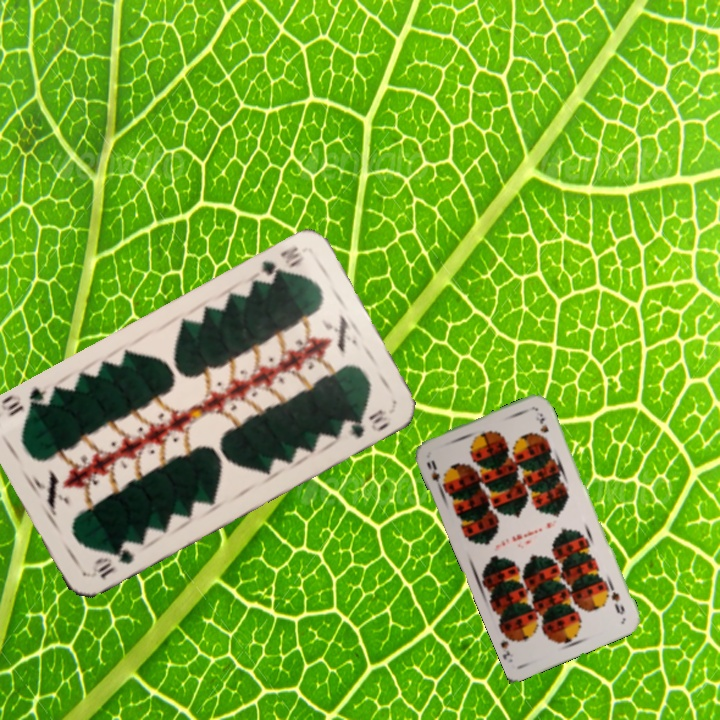G10: (256, 242, 307, 286), (85, 545, 138, 581)
S9: (423, 456, 449, 493), (603, 581, 627, 617)
